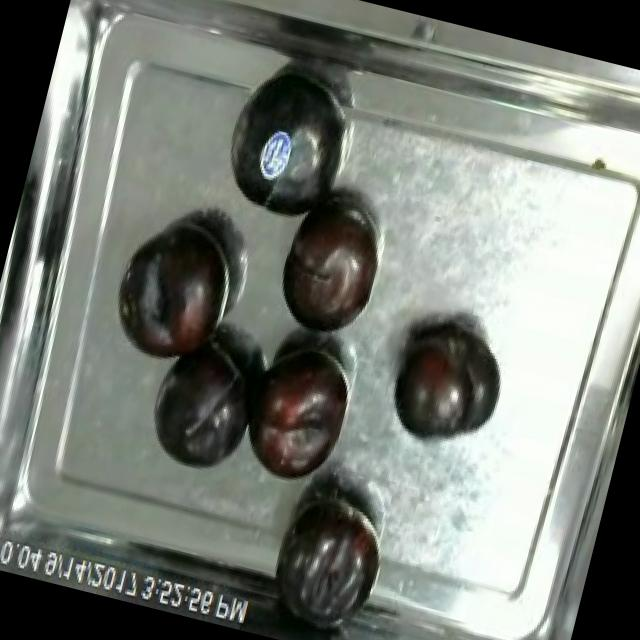Fruit: (206, 58, 362, 236), (223, 330, 363, 496), (108, 212, 244, 377), (263, 189, 396, 351), (263, 483, 396, 640), (137, 326, 263, 482), (376, 308, 496, 454)
